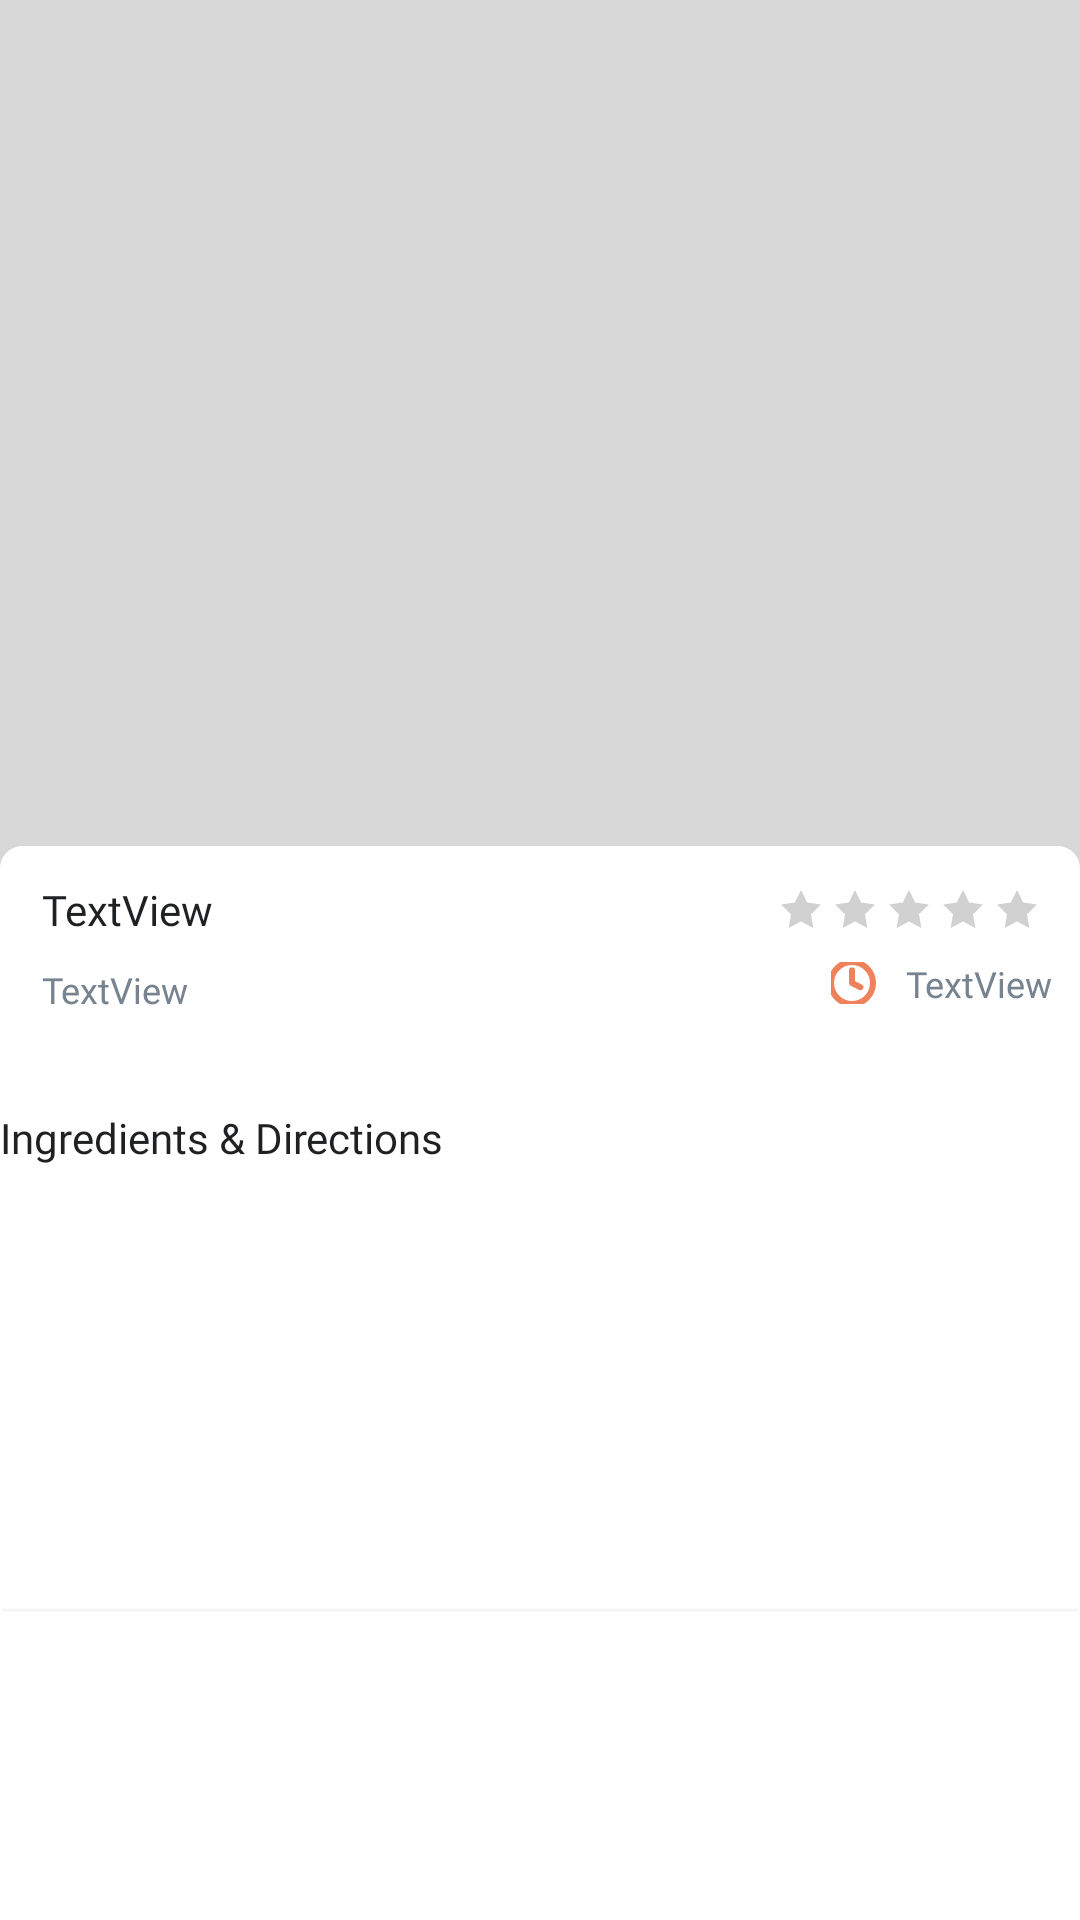

Screen size 1080px×1920px. Icon name, then its box in pixels as bbox(x1, y1, x2, y2):
star false: bbox(782, 891, 820, 927), bbox(836, 891, 874, 927), bbox(890, 891, 928, 927), bbox(944, 891, 982, 927), bbox(998, 891, 1036, 927)
time: bbox(831, 962, 876, 1004)
